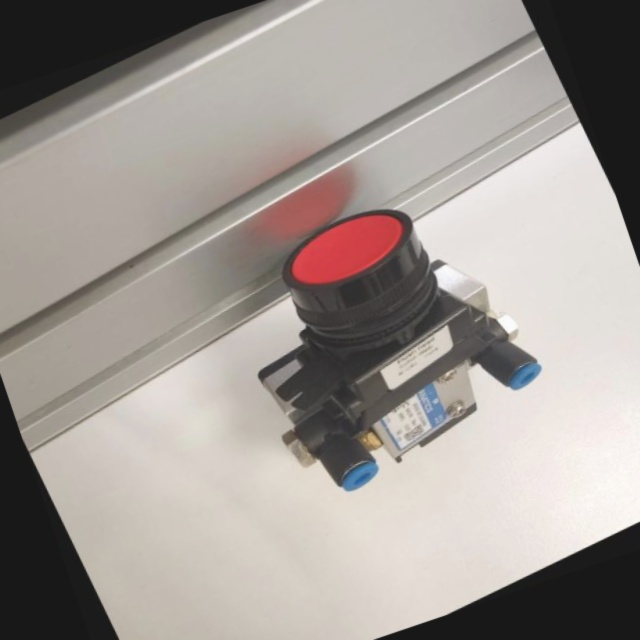push button: (194, 156, 565, 519)
